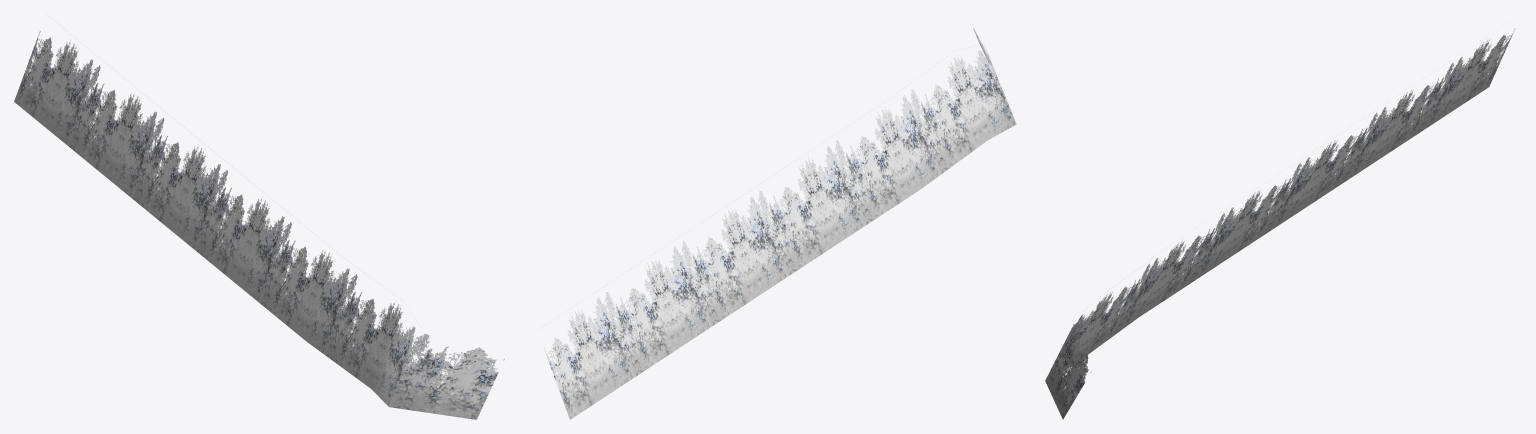
File: kp_bg_cliptrees_A.glb
3 renders of one model, left to right at view 1: azimuth 30°, elevation 25°; view 2: azimuth 150°, elevation 25°; view 3: azimuth 330°, elevation 25°, orthographic.
Parts seen in each view (by area): view 1: foliage_clip_bgtrees_winter_01; view 2: foliage_clip_bgtrees_winter_01; view 3: foliage_clip_bgtrees_winter_01.
Part boxes in pixels (box(x1,y1,x2,y2)): foliage_clip_bgtrees_winter_01: box(14, 31, 507, 419); foliage_clip_bgtrees_winter_01: box(544, 28, 1016, 419); foliage_clip_bgtrees_winter_01: box(1045, 29, 1514, 419).
Bounding box in the file's own units: 18.95 × 17.05 × 171.
Materials: 1 (1 with a texture image).
